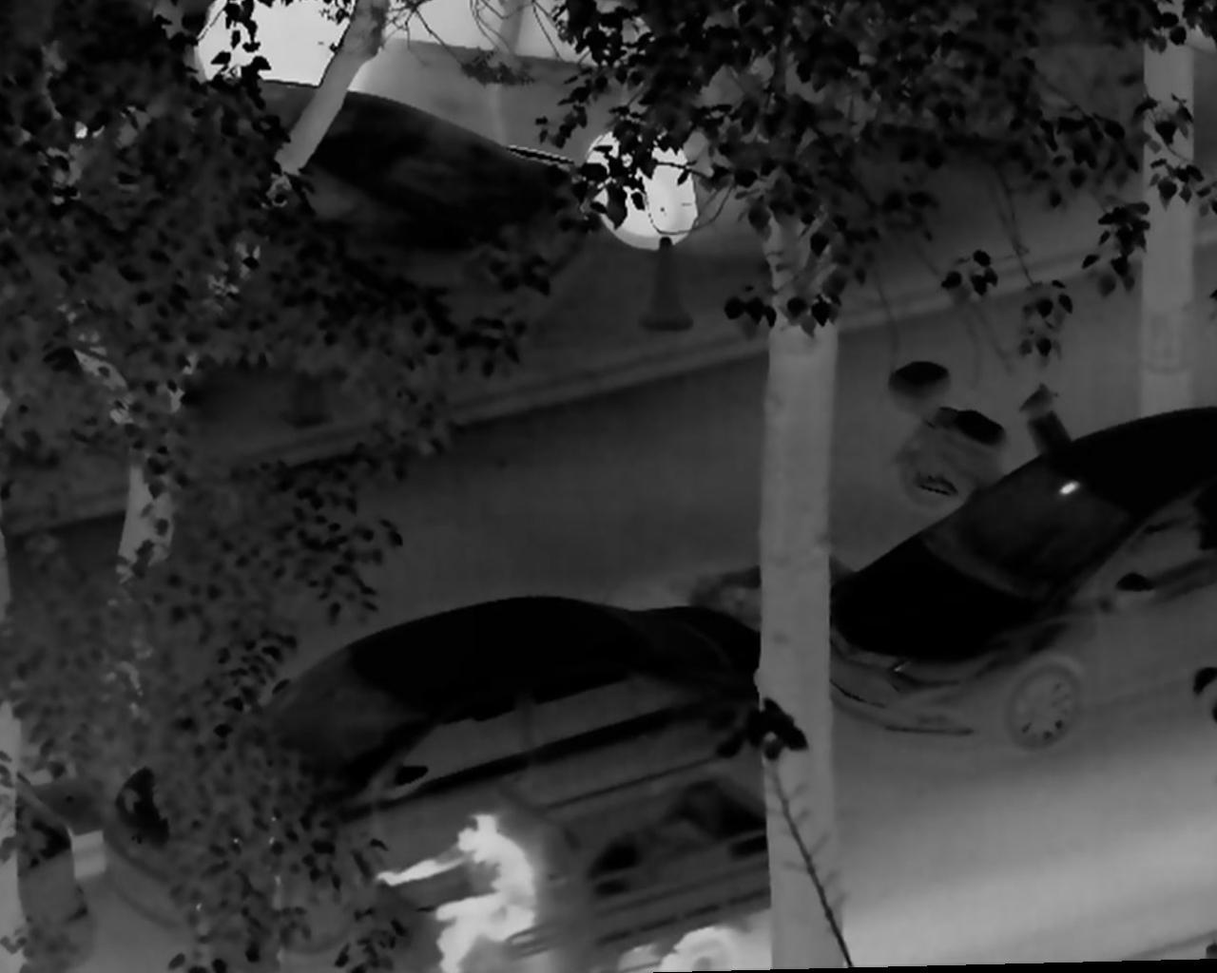person: (377, 808, 541, 972)
